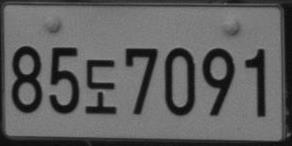0: (163, 46, 196, 116)
1: (242, 47, 274, 117)
5: (47, 47, 80, 114)
7: (125, 47, 158, 115)
8: (10, 45, 43, 114)
9: (201, 46, 235, 116)
도: (85, 58, 116, 114)
